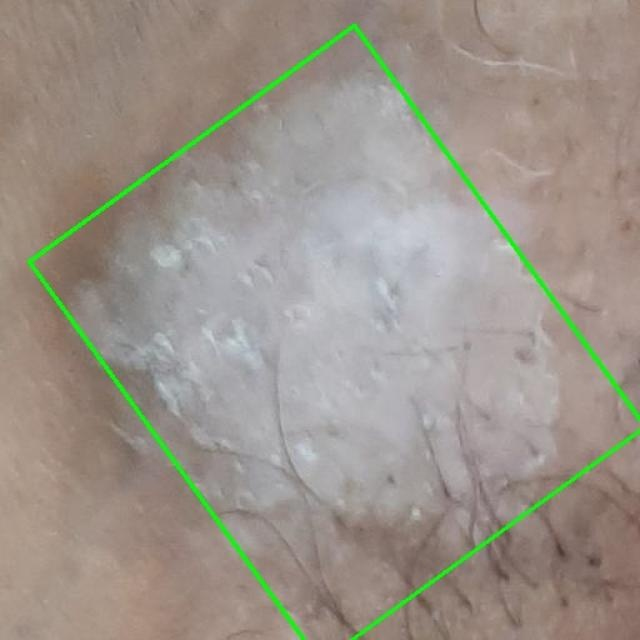Contact Dermatitis: (29, 26, 640, 640)
